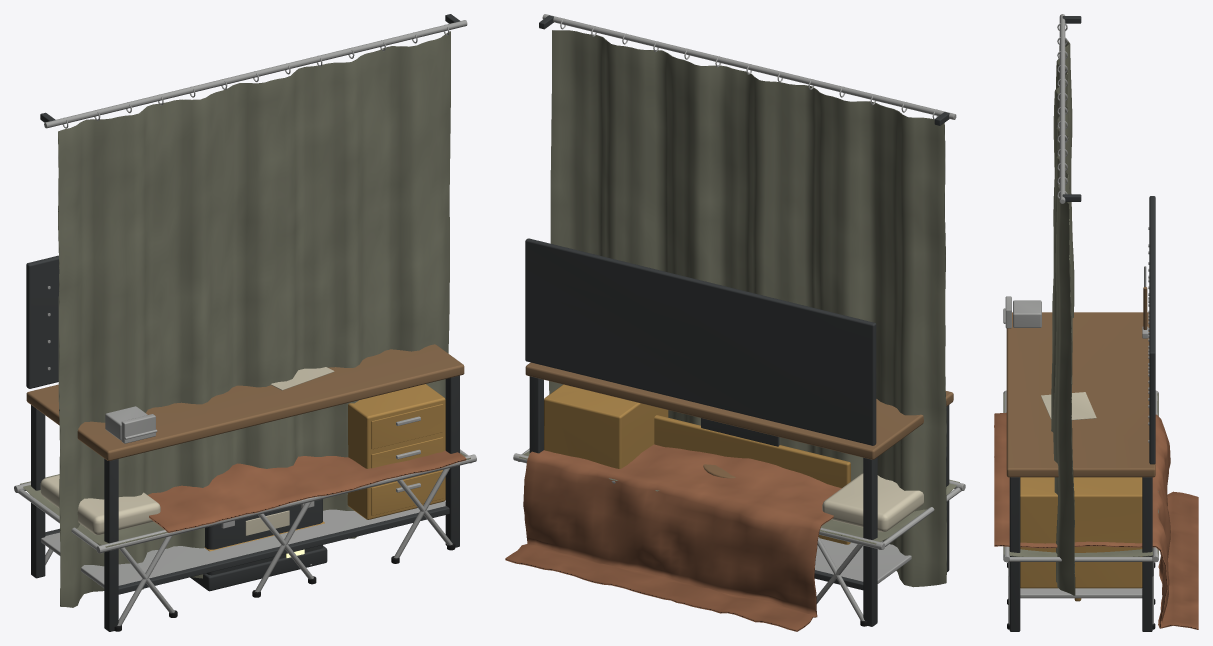
File: interior-props.glb
The picture shows the model from 3 angles, left to right: view 1: azimuth 30°, elevation 25°; view 2: azimuth 150°, elevation 25°; view 3: azimuth 270°, elevation 25°; orthographic projection. The views are drawn at different scales.
Parts seen in each view (by area): view 1: curtain_WornFabric, workbench_Graphite, workbench_Wood, blanket_Blanket, workbench_OchrePaint, workbench_Steel, cot_Steel, curtain_Steel, cot_Paper, battery_case_Graphite, plant_tray_Graphite, cot_WornFabric; view 2: curtain_WornFabric, workbench_Graphite, blanket_Blanket, workbench_OchrePaint, workbench_Wood, sign_OchrePaint, cot_Paper, curtain_Steel, workbench_Steel, cot_Steel, cot_WornFabric, sign_Graphite; view 3: workbench_Wood, workbench_OchrePaint, curtain_WornFabric, blanket_Blanket, workbench_Graphite, workbench_Steel, curtain_Steel, cot_Steel, cot_WornFabric, workbench_Paper.
Boxes of the visible parts, x1=… form: curtain_WornFabric: x1=58, y1=31, x2=450, y2=607; workbench_Graphite: x1=26, y1=255, x2=459, y2=631; workbench_Wood: x1=26, y1=344, x2=464, y2=460; blanket_Blanket: x1=147, y1=450, x2=466, y2=532; workbench_OchrePaint: x1=347, y1=384, x2=445, y2=519; workbench_Steel: x1=41, y1=286, x2=445, y2=587; cot_Steel: x1=14, y1=449, x2=476, y2=625; curtain_Steel: x1=44, y1=20, x2=467, y2=128; cot_Paper: x1=40, y1=475, x2=160, y2=534; battery_case_Graphite: x1=205, y1=499, x2=322, y2=575; plant_tray_Graphite: x1=190, y1=546, x2=327, y2=591; cot_WornFabric: x1=20, y1=452, x2=470, y2=547; curtain_WornFabric: x1=549, y1=30, x2=946, y2=587; workbench_Graphite: x1=525, y1=238, x2=949, y2=626; blanket_Blanket: x1=505, y1=444, x2=841, y2=631; workbench_OchrePaint: x1=544, y1=384, x2=668, y2=468; workbench_Wood: x1=525, y1=362, x2=953, y2=459; sign_OchrePaint: x1=654, y1=415, x2=850, y2=544; cot_Paper: x1=822, y1=473, x2=923, y2=531; curtain_Steel: x1=542, y1=14, x2=956, y2=119; workbench_Steel: x1=815, y1=538, x2=911, y2=583; cot_Steel: x1=513, y1=448, x2=965, y2=620; cot_WornFabric: x1=519, y1=451, x2=959, y2=544; sign_Graphite: x1=701, y1=418, x2=779, y2=446; workbench_Wood: x1=1006, y1=286, x2=1155, y2=477; workbench_OchrePaint: x1=1020, y1=477, x2=1142, y2=588; curtain_WornFabric: x1=1051, y1=39, x2=1075, y2=595; blanket_Blanket: x1=994, y1=412, x2=1198, y2=629; workbench_Graphite: x1=1009, y1=196, x2=1155, y2=631; workbench_Steel: x1=1003, y1=227, x2=1149, y2=598; curtain_Steel: x1=1057, y1=14, x2=1067, y2=203; cot_Steel: x1=1003, y1=390, x2=1158, y2=624; cot_WornFabric: x1=1003, y1=393, x2=1158, y2=556; workbench_Paper: x1=1041, y1=392, x2=1096, y2=420.
Size of the model in its own units: 212 by 240 by 98.96.
